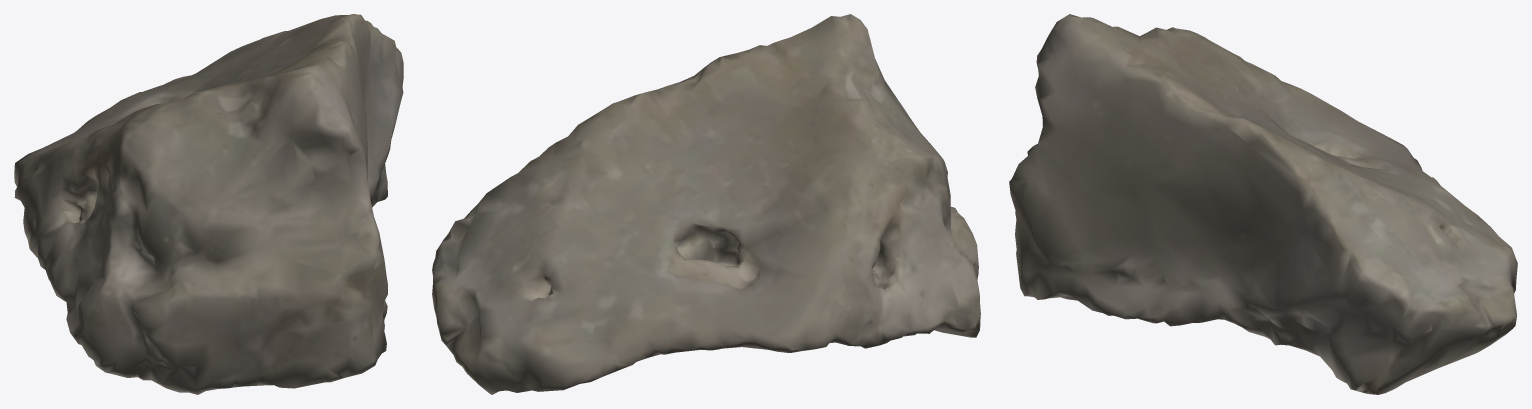
Rendered from moon_rock_06.glb.
3 views of the same model, side by side, from view 1: azimuth 30°, elevation 25°; view 2: azimuth 150°, elevation 25°; view 3: azimuth 270°, elevation 25° (orthographic). The views are drawn at different scales.
Visible parts, largest first — view 1: moon_rock_06_LOD0; view 2: moon_rock_06_LOD0; view 3: moon_rock_06_LOD0.
Boxes of the visible parts, box(x1,y1,x2,y2) form: moon_rock_06_LOD0: box(14, 14, 403, 394); moon_rock_06_LOD0: box(432, 14, 980, 394); moon_rock_06_LOD0: box(1009, 14, 1517, 394).
Bounding box in the file's own units: 0.0857 × 0.055 × 0.0918.
1 material, 1 textured.
